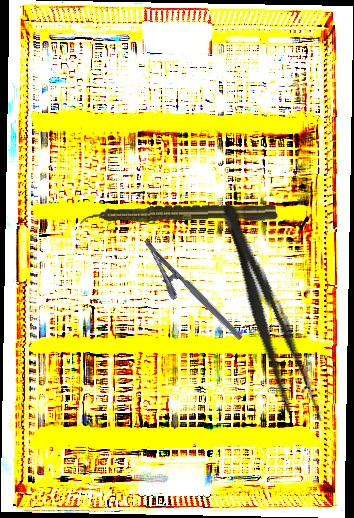Dressing Forceps: (206, 196, 329, 433)
Handpiece: (79, 203, 279, 225)
Needle Holder: (129, 237, 244, 355)
